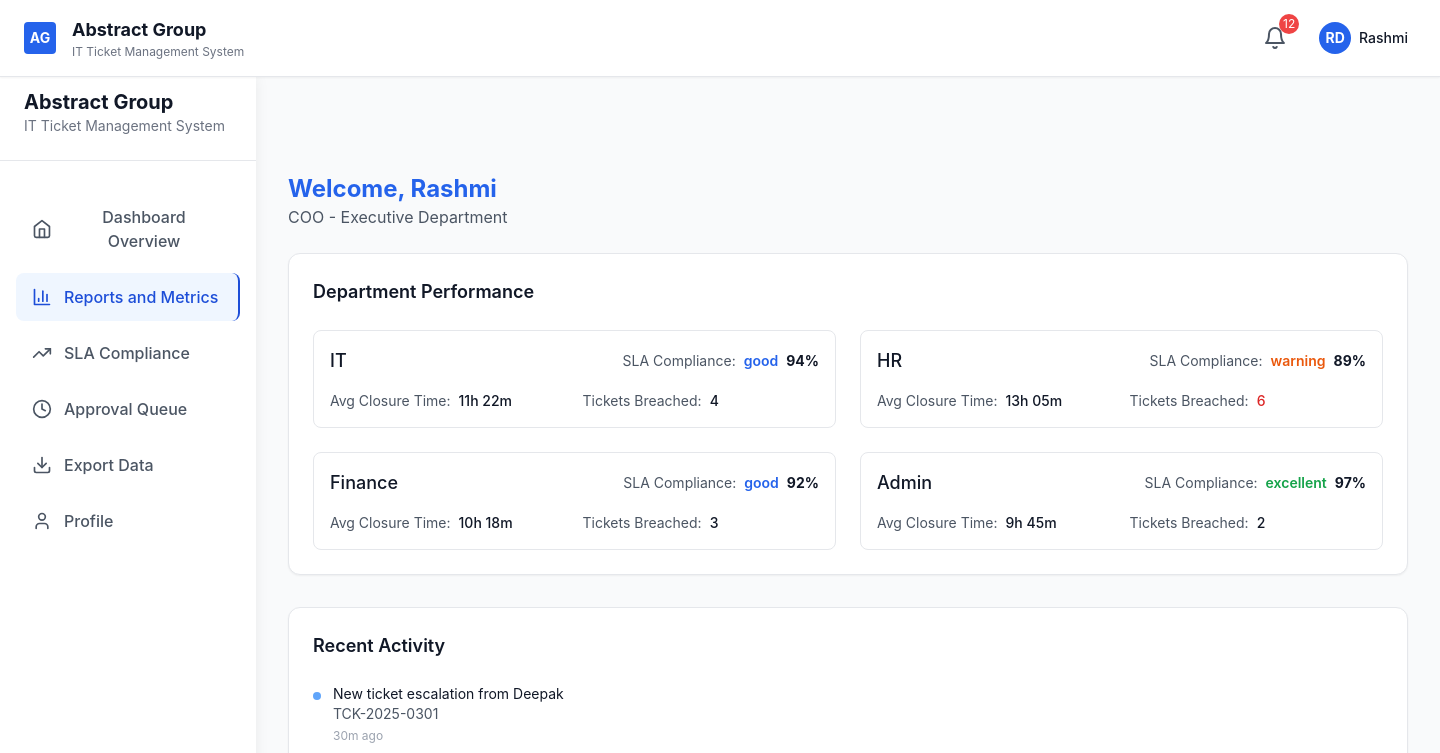
Test case: COODashboard - unit tests › navigates through all sidebar views and renders expected headings
Step 1. Click the button "Dashboard Overview" → click(128, 229), box [16,193,240,265]
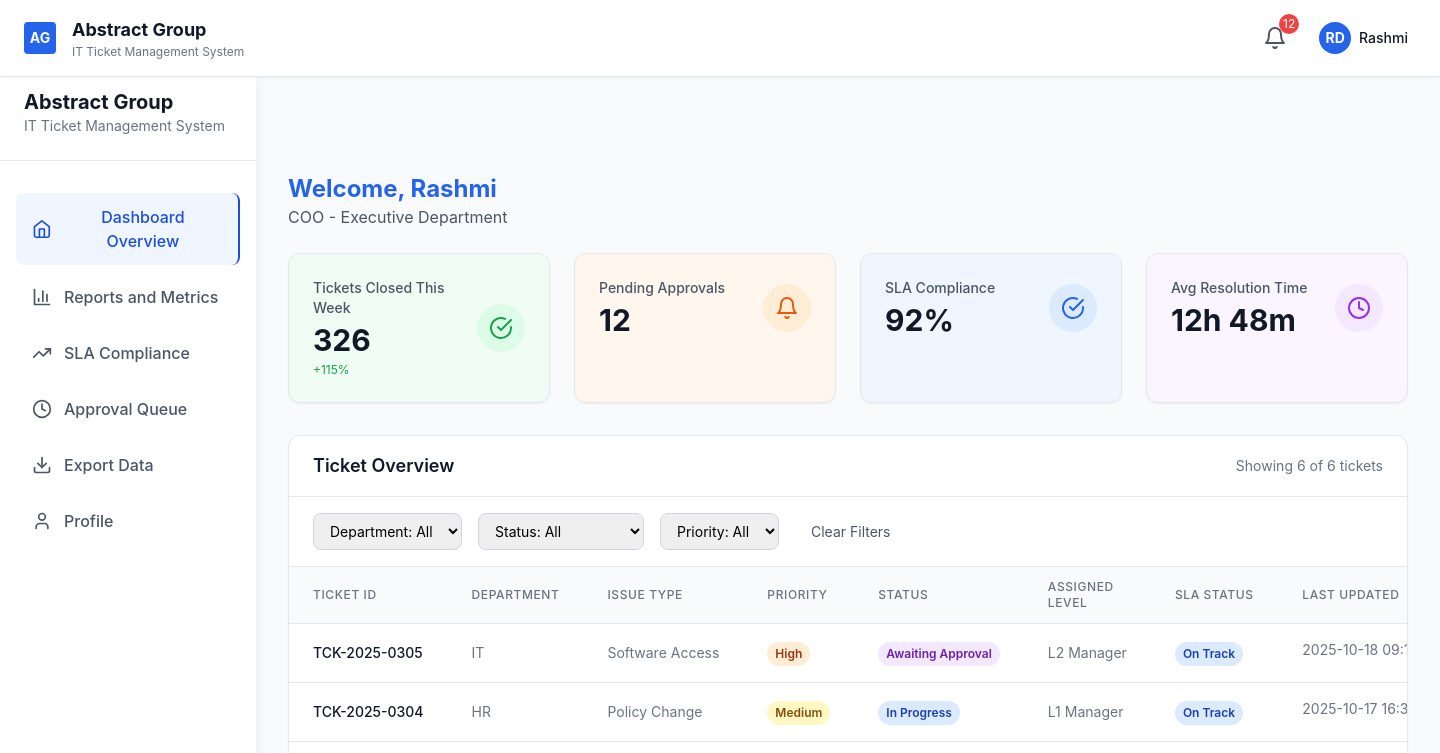
Now the heading "Ticket Overview" is shown, box [313,452,454,480]
Step 2. Click the button "Reports and Metrics" → click(128, 297), box [16,273,240,321]
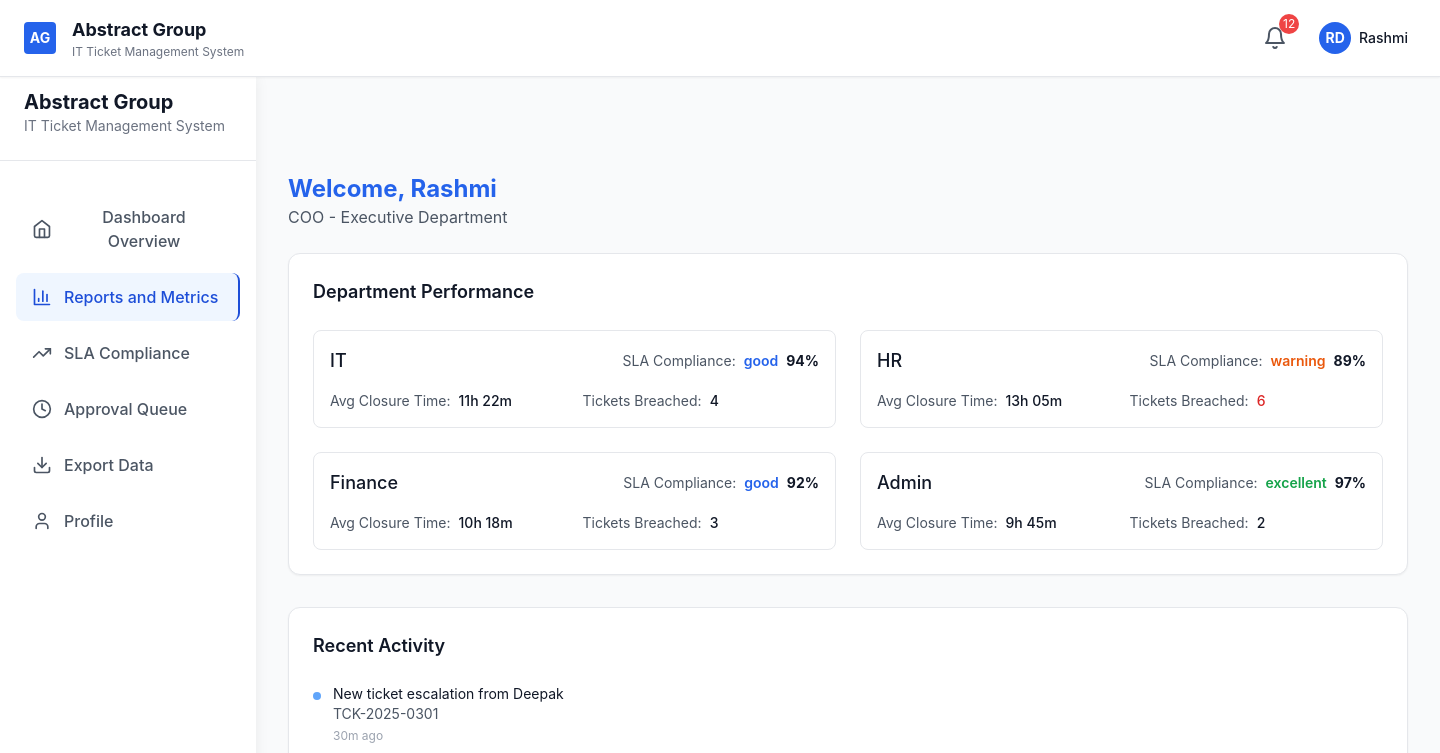
Now the heading "Department Performance" is shown, box [313,281,534,302]
Step 3. Click the button "SLA Compliance" → click(128, 353), box [16,329,240,377]
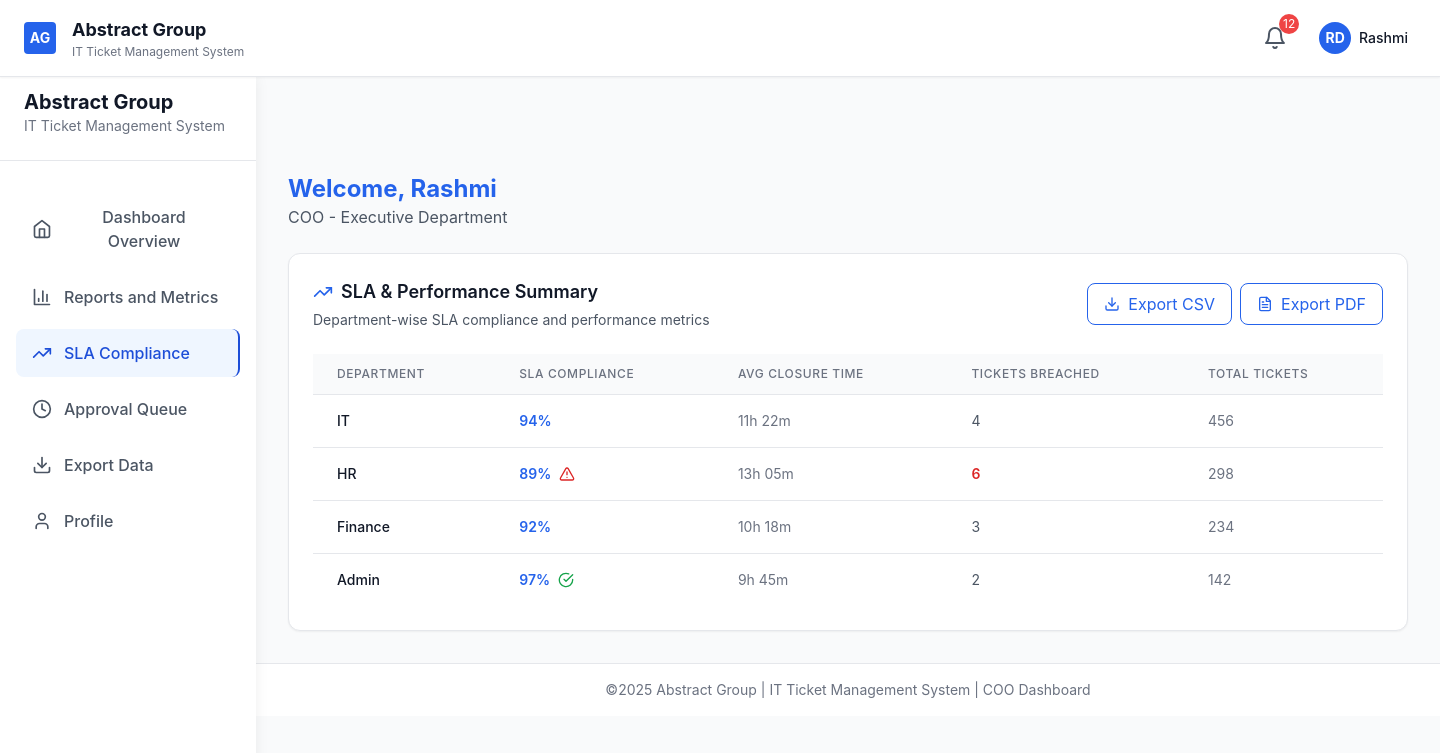
Now the heading "SLA & Performance Summary" is shown, box [313,281,598,302]
Step 4. Click the button "Approval Queue" → click(128, 409), box [16,385,240,433]
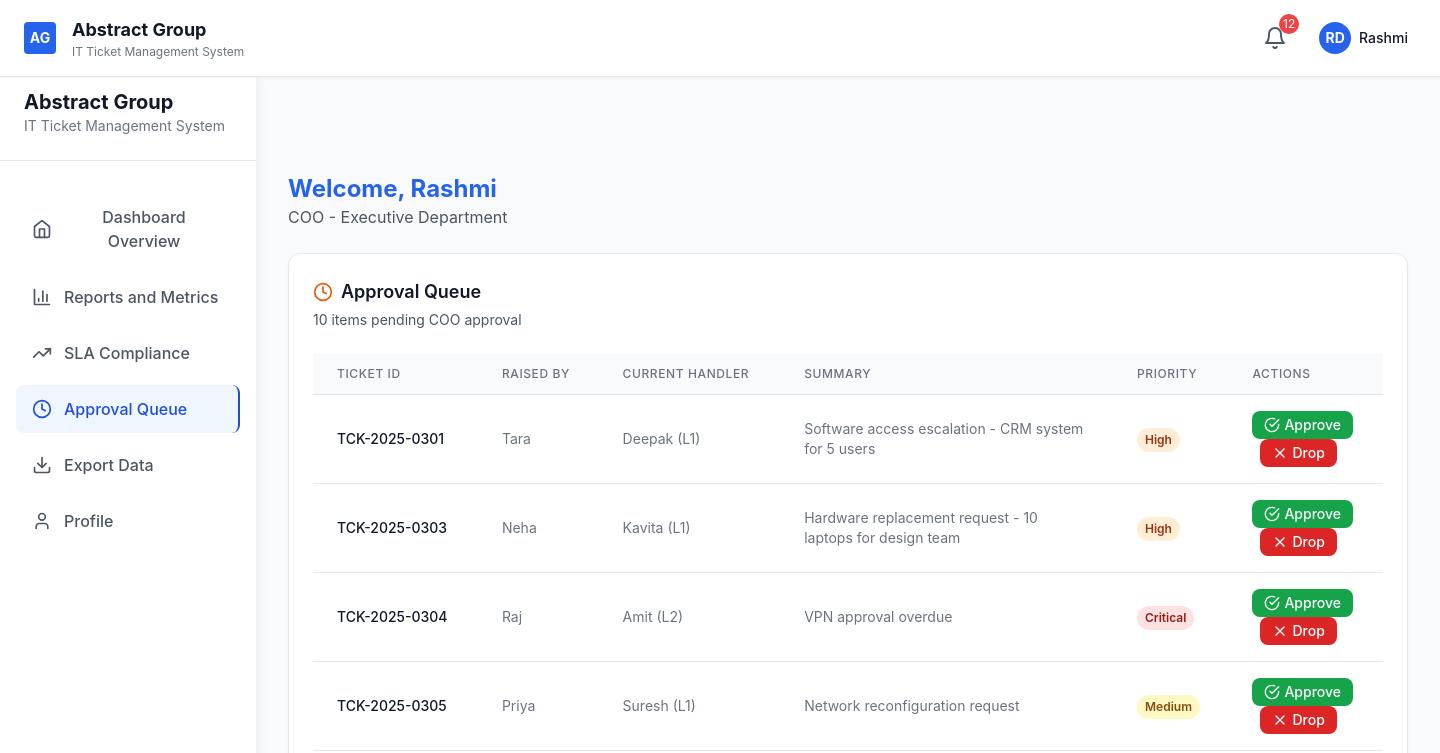
Now the heading "Approval Queue" is shown, box [313,281,481,302]
Step 5. Click the button "Export Data" → click(128, 465), box [16,441,240,489]
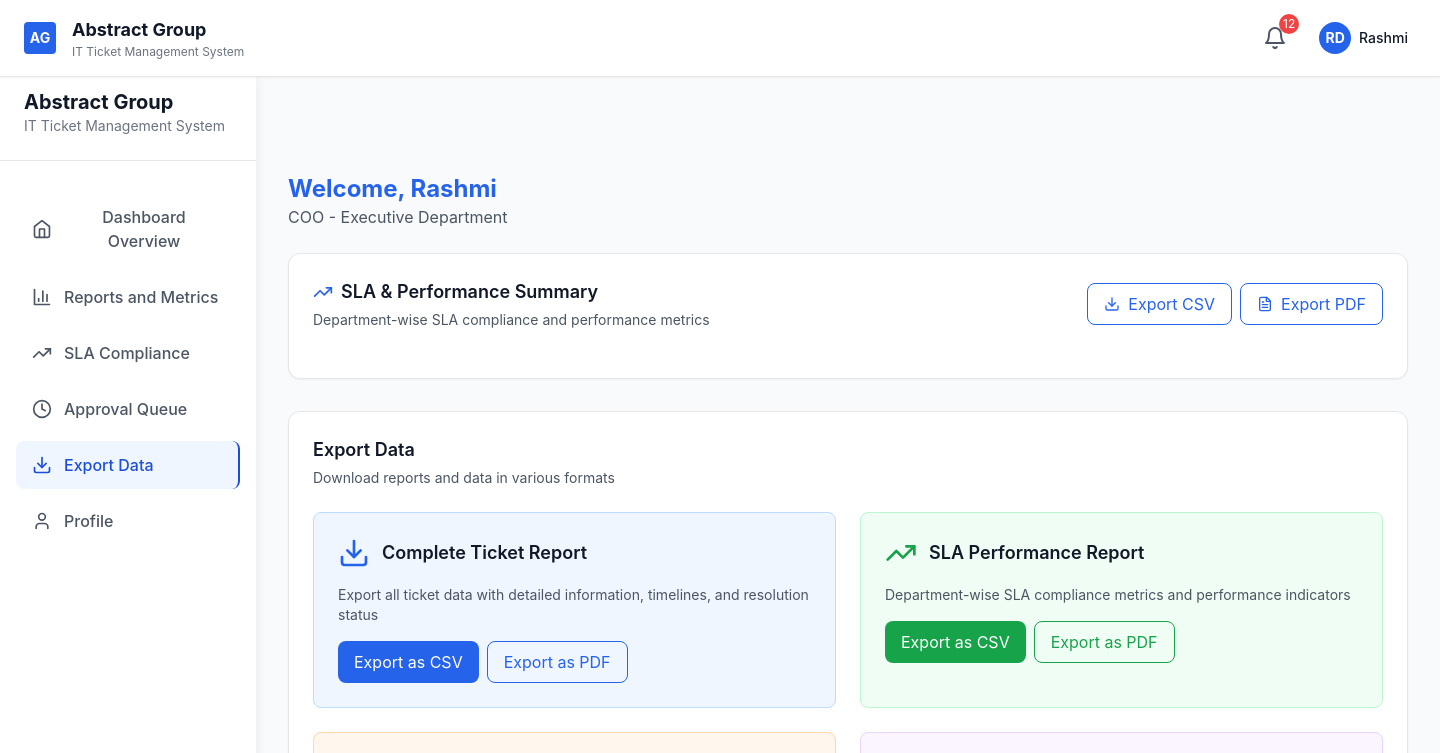
Now the heading "Export Data" is shown, box [313,439,415,460]
Step 6. Click the button "Profile" → click(128, 521), box [16,497,240,545]
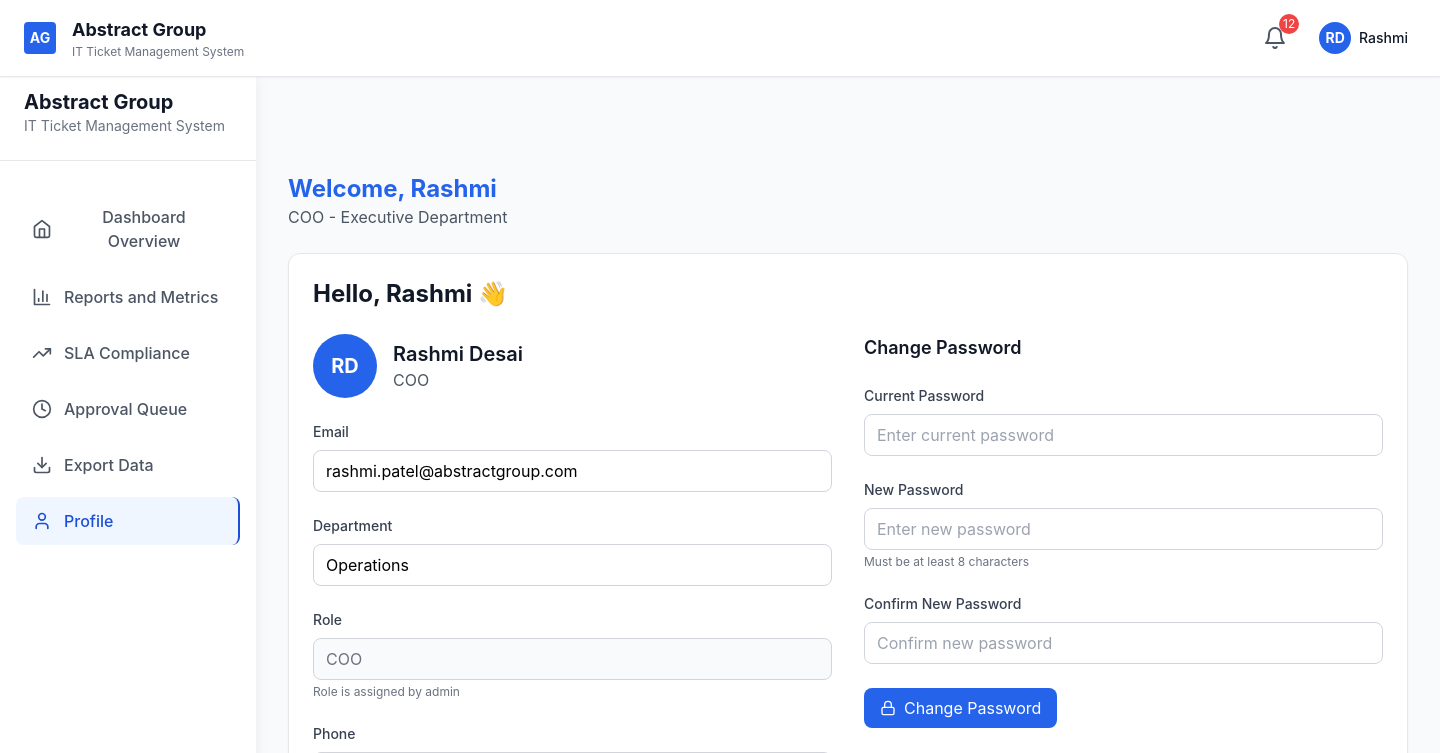
Now the heading "Hello, Rashmi 👋" is shown, box [313,279,508,308]
